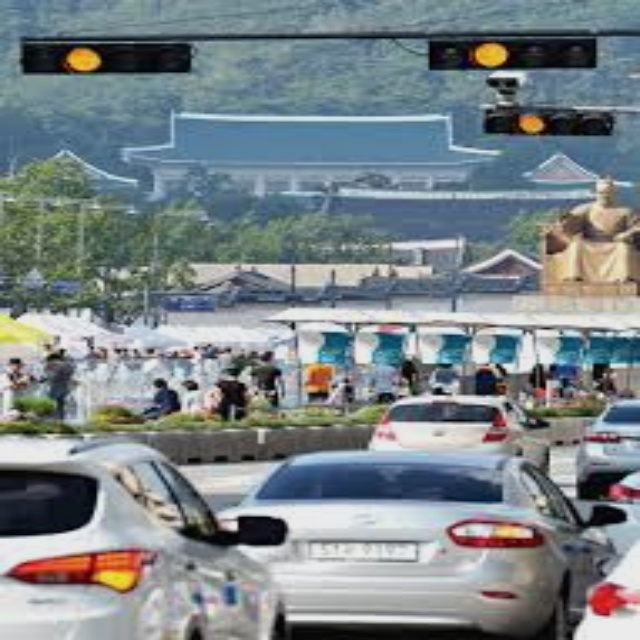yellow_light: (64, 47, 107, 73), (471, 42, 510, 65), (517, 114, 545, 131)
